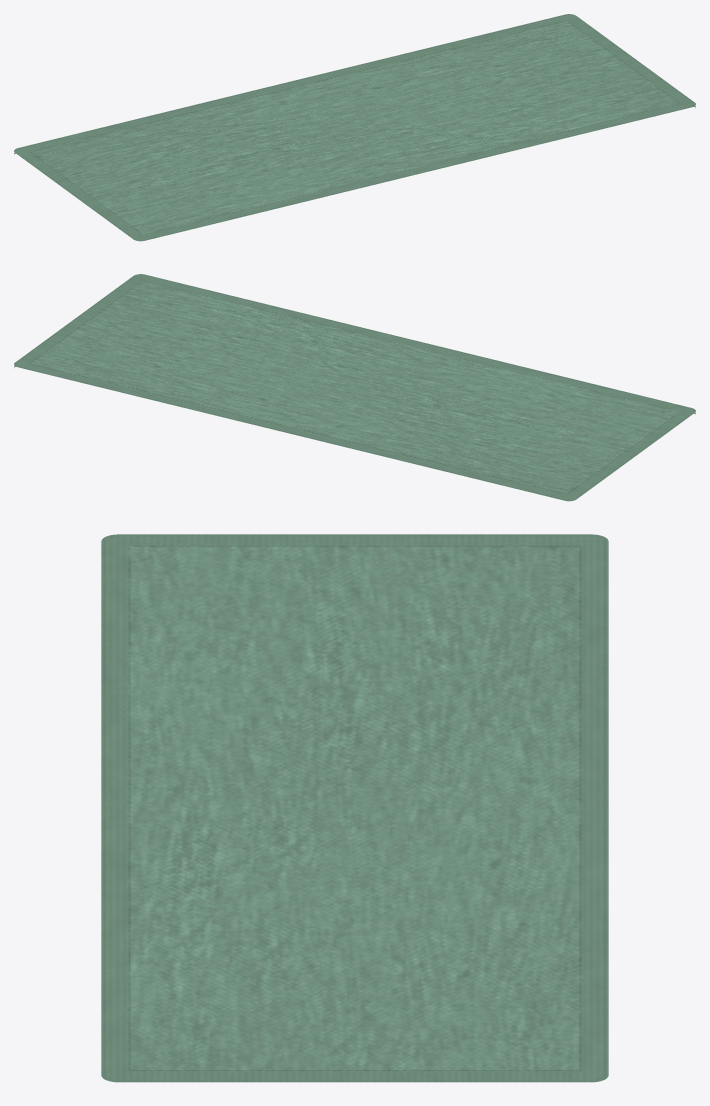
Rendered from green_kitchen_r90.glb.
The picture shows the model from 3 angles, top to bottom: view 1: azimuth 30°, elevation 25°; view 2: azimuth 150°, elevation 25°; view 3: azimuth 270°, elevation 25°; orthographic projection. The views are drawn at different scales.
Visible parts, largest first — view 1: reliv_green_kitchen_r90; view 2: reliv_green_kitchen_r90; view 3: reliv_green_kitchen_r90.
Part boxes in pixels (box(x1,y1,x2,y2)): reliv_green_kitchen_r90: box(14, 14, 695, 241); reliv_green_kitchen_r90: box(14, 274, 695, 501); reliv_green_kitchen_r90: box(101, 534, 608, 1082).
Size of the model in its own units: 1.15 by 0.009 by 0.45.
2 materials, 1 textured.
